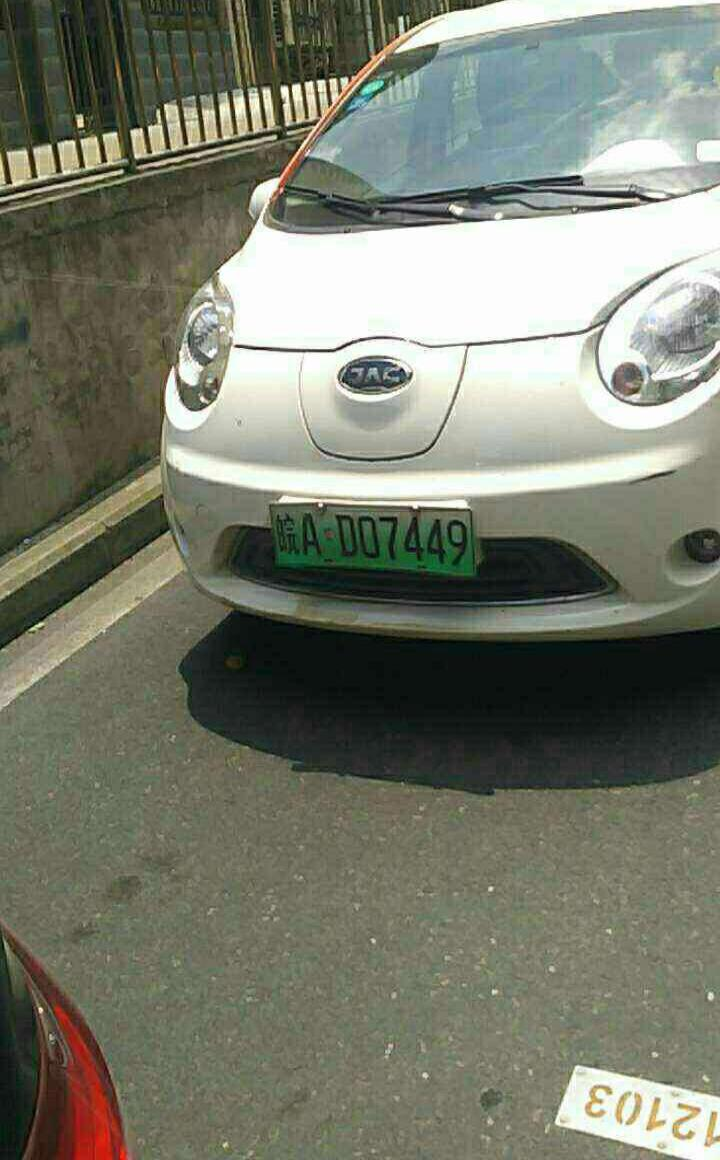car_id: (266, 501, 469, 580)
